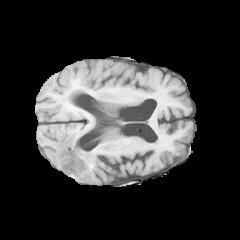glioma: (47, 96, 97, 182)
